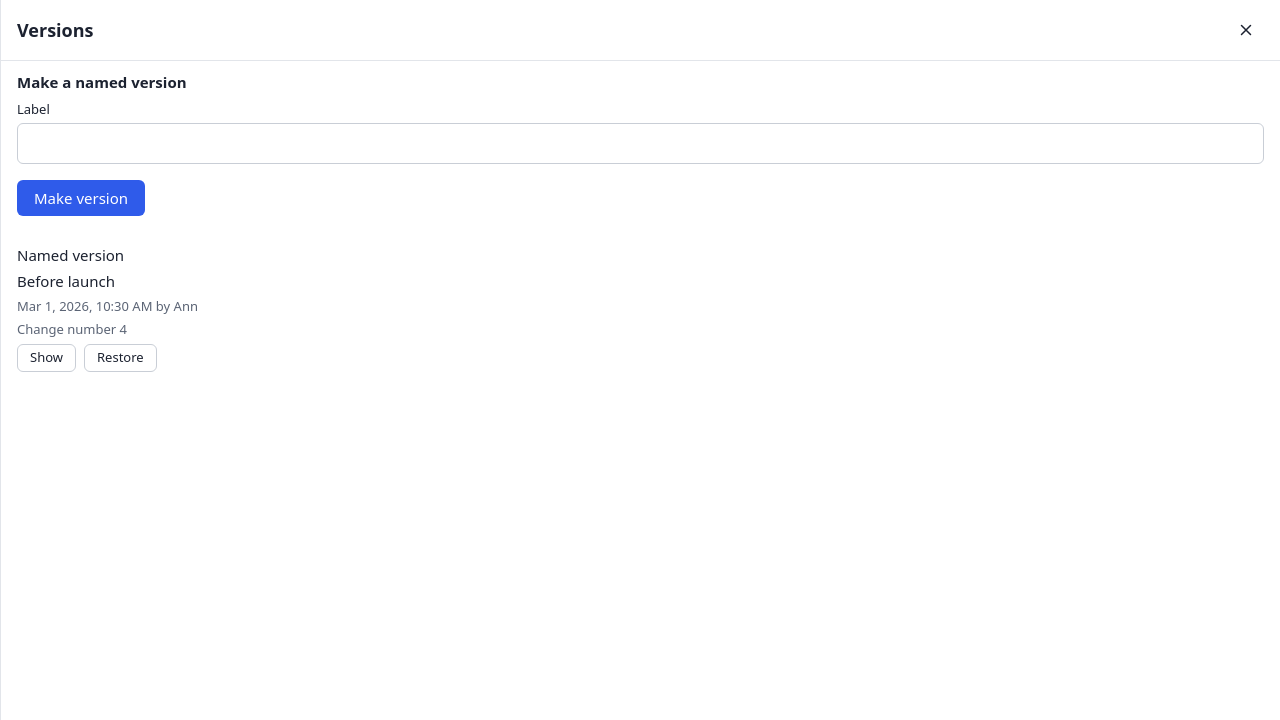
Test case: versions (spec) › VER-003 restore sends the change number of the editor and gives the restored diagram to the editor
Click the button with aria-label "Restore the version".
click(120, 358)  # box x1=84 y1=344 x2=157 y2=372
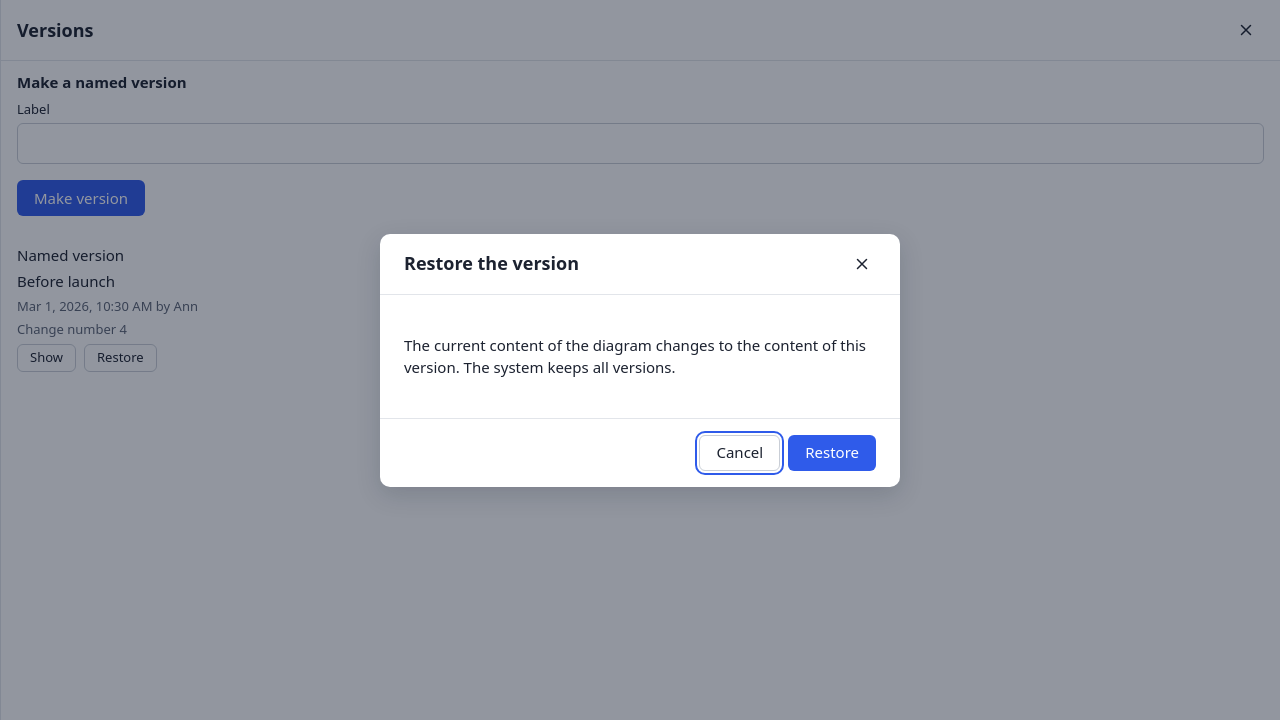
Expected: the text "The current content of the diagram changes to the content of this version. The system keeps all versions." is shown, x1=404 y1=334 x2=866 y2=377
Click the button "Restore".
click(832, 452)  # box x1=788 y1=434 x2=876 y2=470
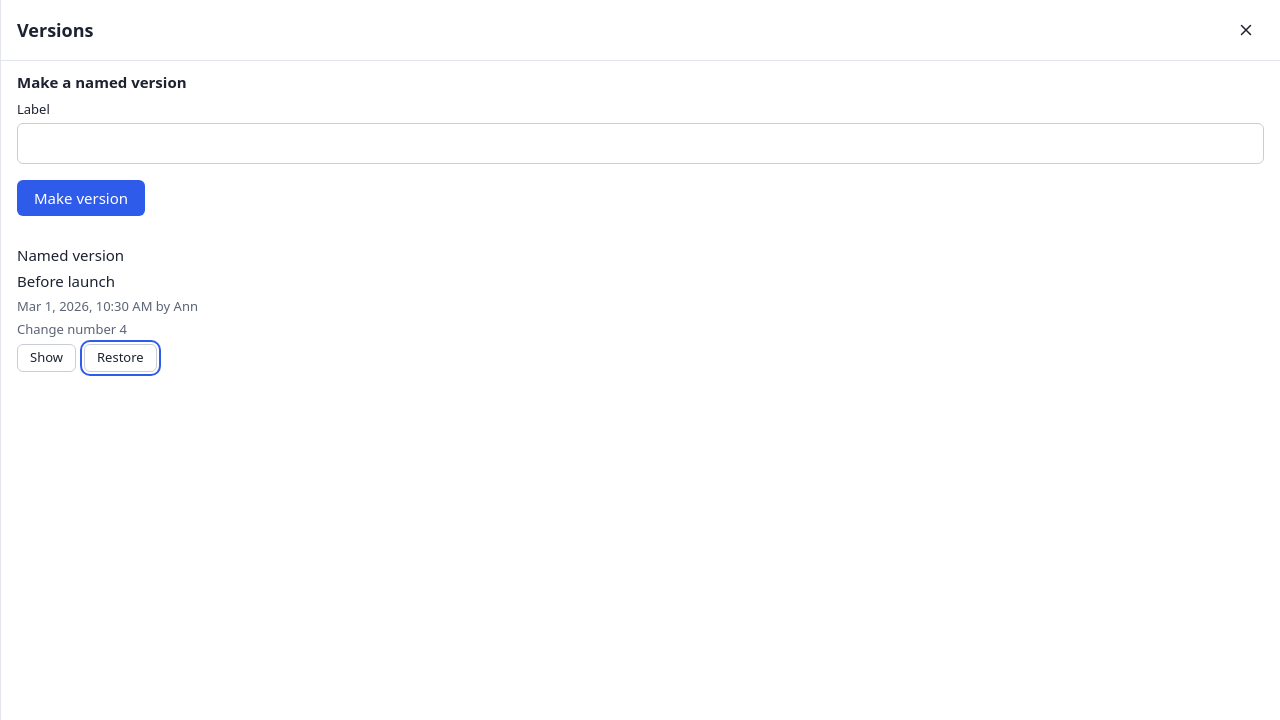
Expected: the dialog is gone
